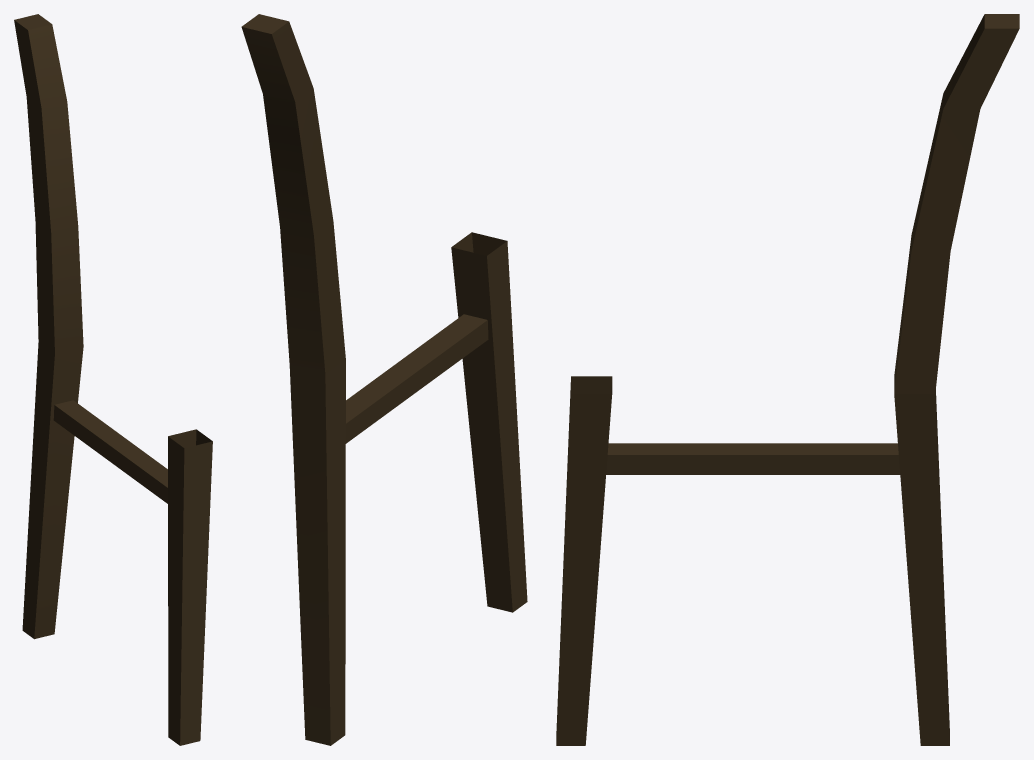
Rendered from Itr_Chair3_Leg_Left_02.FBX.
3 renders of one model, left to right at view 1: azimuth 30°, elevation 25°; view 2: azimuth 150°, elevation 25°; view 3: azimuth 270°, elevation 25°, orthographic. The views are drawn at different scales.
Visible parts, largest first — view 1: Itr_Chair3_Leg_Left_02; view 2: Itr_Chair3_Leg_Left_02; view 3: Itr_Chair3_Leg_Left_02.
Part boxes in pixels (x1=…): Itr_Chair3_Leg_Left_02: x1=14, y1=14, x2=212, y2=745; Itr_Chair3_Leg_Left_02: x1=241, y1=14, x2=527, y2=745; Itr_Chair3_Leg_Left_02: x1=556, y1=14, x2=1019, y2=745.
Size of the model in its own units: 3.08 by 39.55 by 22.7.
